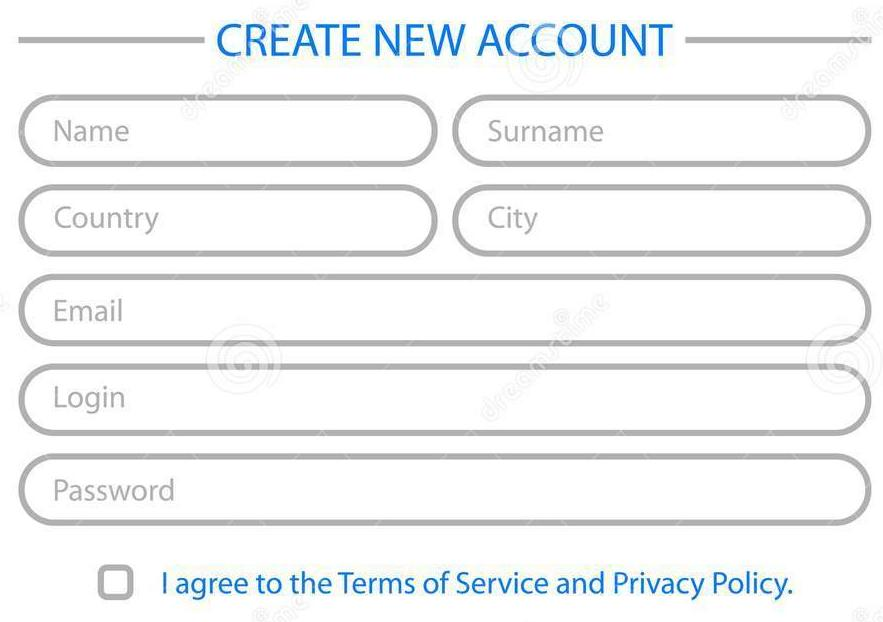checkbox: (94, 559, 140, 606)
checkbox_with_label: (89, 554, 796, 609)
field: (17, 362, 873, 438), (18, 453, 873, 529), (17, 273, 870, 348), (17, 91, 434, 171), (450, 93, 871, 171), (17, 182, 440, 259), (451, 183, 870, 259)
